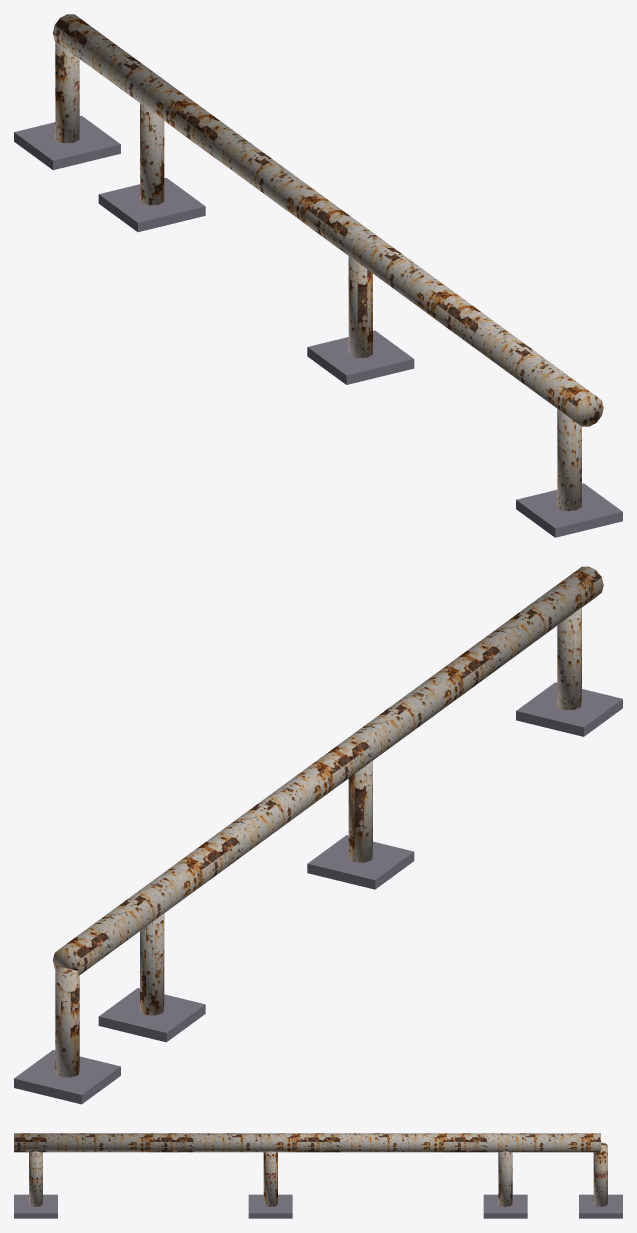
Rendered from RoundRail.glb.
The picture shows the model from 3 angles, top to bottom: view 1: azimuth 30°, elevation 25°; view 2: azimuth 150°, elevation 25°; view 3: azimuth 270°, elevation 25°; orthographic projection. The views are drawn at different scales.
Visible parts, largest first — view 1: RoundRail_Bar, RoundRail_Bar_Feet; view 2: RoundRail_Bar, RoundRail_Bar_Feet; view 3: RoundRail_Bar, RoundRail_Bar_Feet.
Part boxes in pixels (x1,y1,x2,y2): RoundRail_Bar: (53, 14, 603, 510); RoundRail_Bar_Feet: (14, 115, 622, 537); RoundRail_Bar: (52, 566, 603, 1077); RoundRail_Bar_Feet: (14, 682, 622, 1104); RoundRail_Bar: (14, 1133, 607, 1206); RoundRail_Bar_Feet: (14, 1194, 622, 1218).
Size of the model in its own units: 0.2999 by 0.565 by 4.15.
2 materials, 1 textured.
